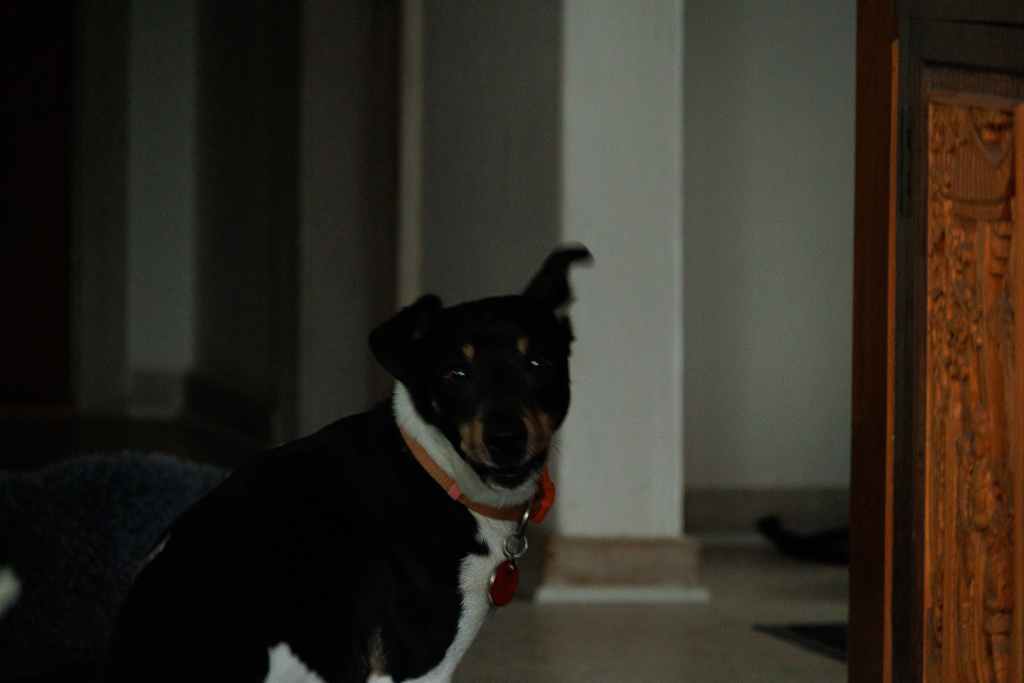Dog: (79, 231, 603, 683)
